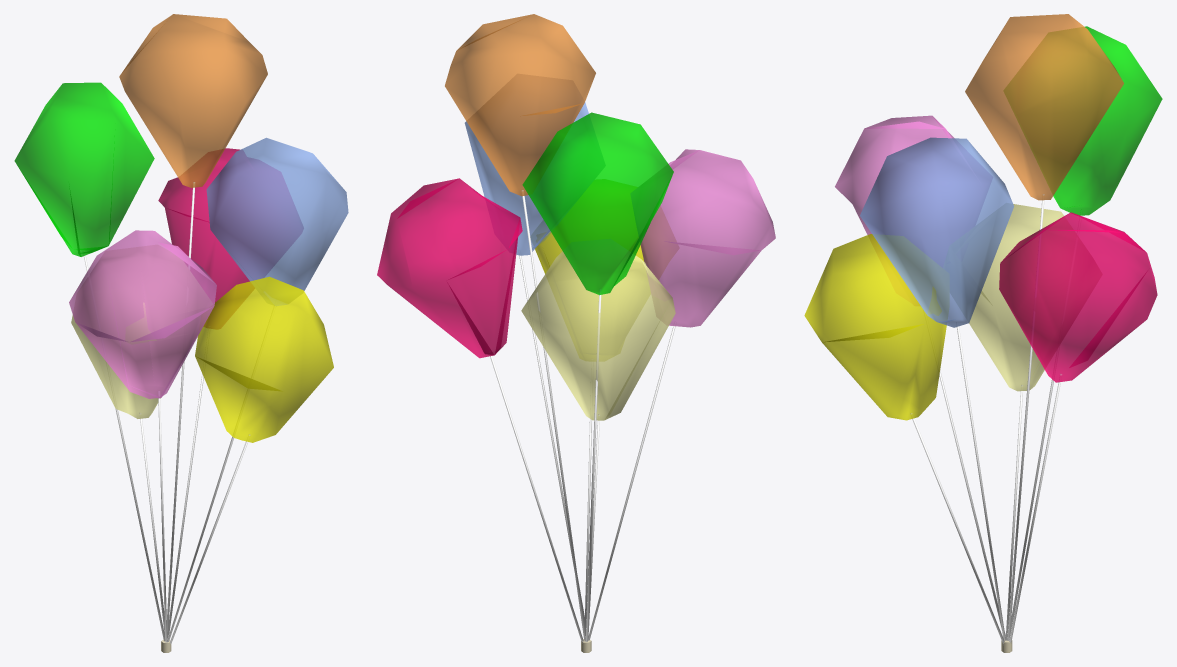
File: Balloons2 LOD 1.fbx
3 renders of one model, left to right at view 1: azimuth 30°, elevation 25°; view 2: azimuth 150°, elevation 25°; view 3: azimuth 270°, elevation 25°, orthographic. The views are drawn at different scales.
Parts seen in each view (by area): view 1: Sphere.066; view 2: Sphere.066; view 3: Sphere.066.
Boxes of the visible parts, x1,y1,x2,y2 form: Sphere.066: (14,14,348,652); Sphere.066: (377,14,775,652); Sphere.066: (804,14,1162,652).
Size of the model in its own units: 68.68 by 137 by 69.
